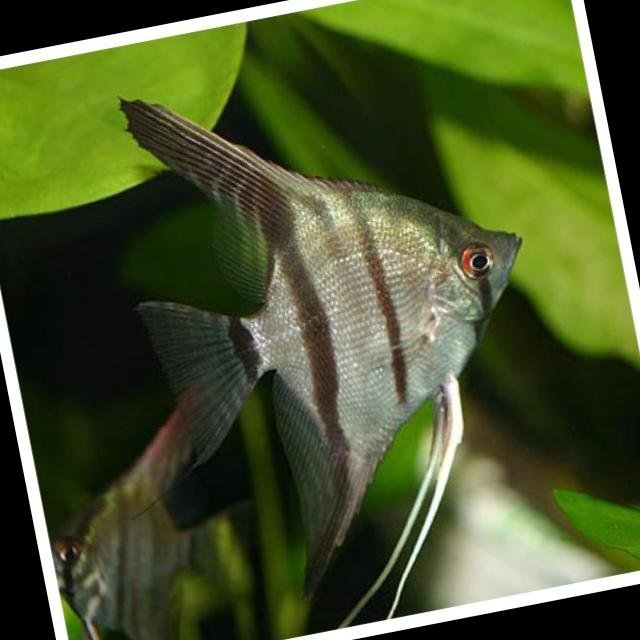AngelFish: (109, 20, 582, 630)
